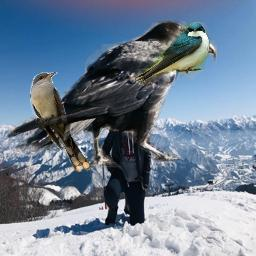Crow: (4, 19, 217, 173)
Cuckoo: (30, 72, 90, 172)
Swallow: (133, 22, 210, 82)
